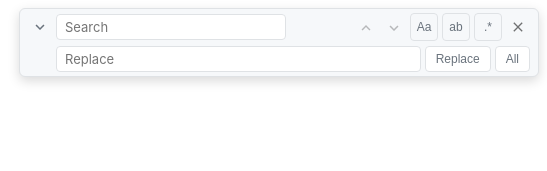
Test: SearchReplacePanel › T-SR-13: single Replace replaces only the current match and advances
Type "foo" into the field with placeholder "Search" at (171, 27), box [56,14,286,40]
Wait 200 ms
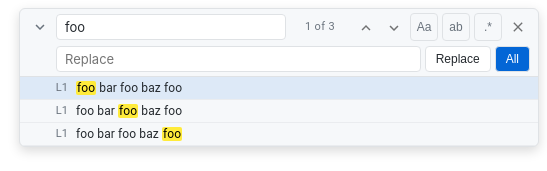
Check: the text "1 of 3" is shown, box [305,20,335,33]
Type "qux" into the field with placeholder "Replace" at (238, 58), box [56,46,421,72]
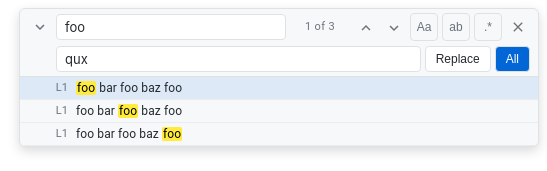
// Click "Replace" (single) — only the current (first) match is replaced
Click the button "Replace" at (458, 59), box [425,46,491,72]
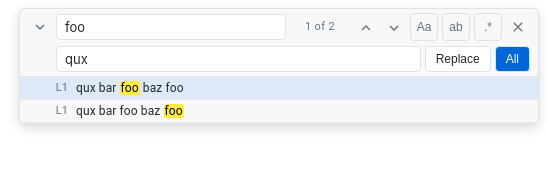
Check: the text "1 of 2" is shown, box [305,20,335,33]
